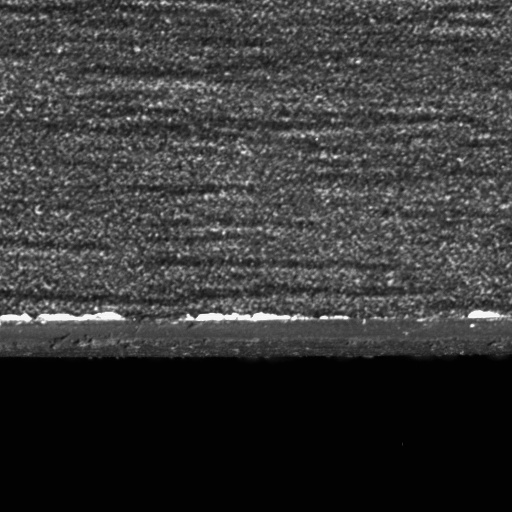huashang: (185, 311, 315, 322), (35, 312, 131, 322), (0, 311, 33, 326), (466, 308, 507, 320)
